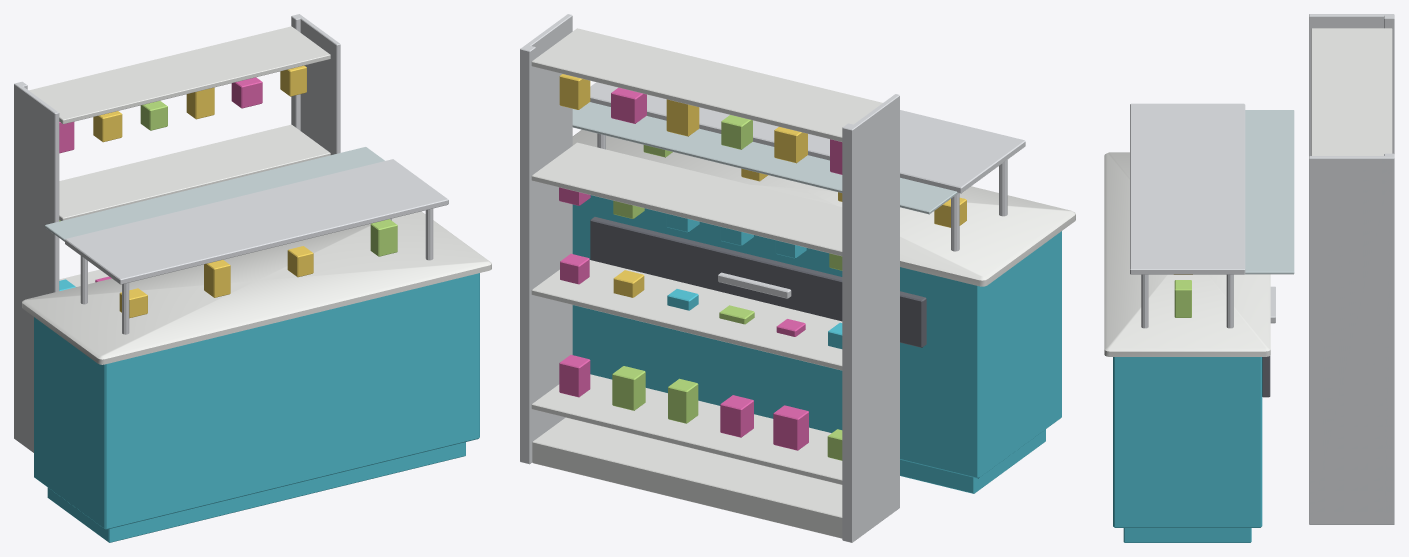
File: laser-tag-arena-and-activity-centre-prize-counter-with-6c207a84__34502.glb
3 renders of one model, left to right at view 1: azimuth 30°, elevation 25°; view 2: azimuth 150°, elevation 25°; view 3: azimuth 270°, elevation 25°, orthographic. The views are drawn at different scales.
Visible parts, largest first — view 1: prize-counter-with-shelving; view 2: prize-counter-with-shelving, drawer, drawer/metal; view 3: prize-counter-with-shelving, drawer.
Part boxes in pixels (x1=…): prize-counter-with-shelving: x1=14, y1=14, x2=491, y2=542; prize-counter-with-shelving: x1=520, y1=14, x2=1075, y2=542; drawer: x1=590, y1=217, x2=926, y2=347; drawer/metal: x1=718, y1=272, x2=791, y2=298; prize-counter-with-shelving: x1=1104, y1=14, x2=1394, y2=542; drawer: x1=1262, y1=356, x2=1270, y2=397.
Size of the model in its own units: 2.2 by 1.9 by 1.36.
